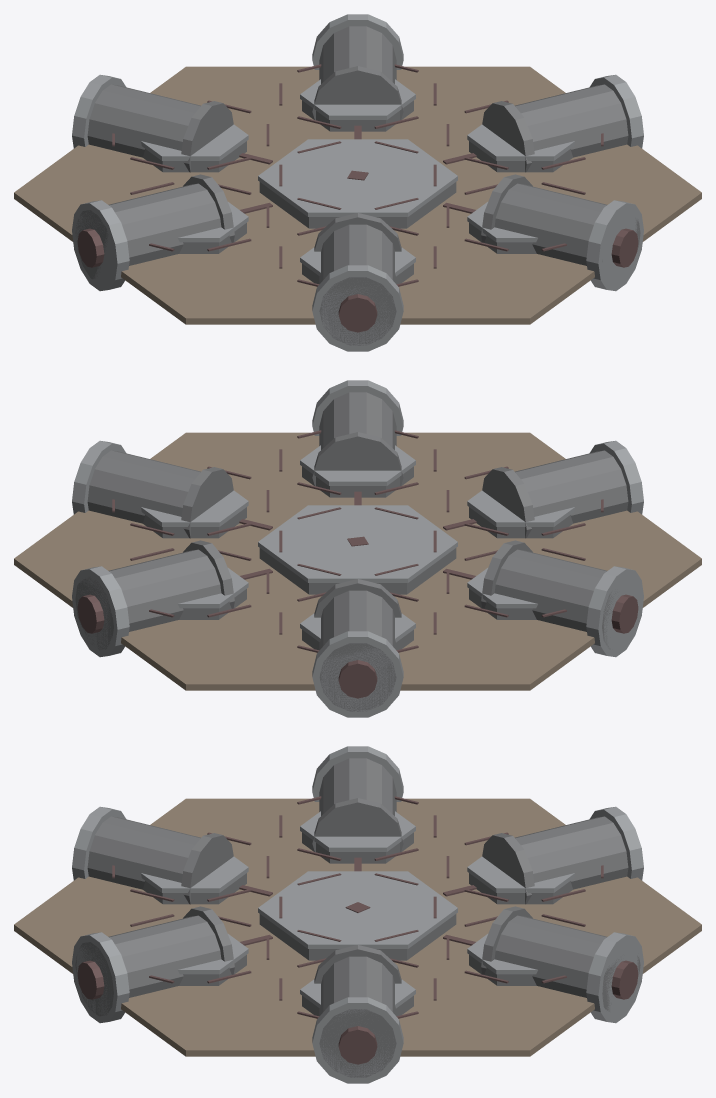
Rendered from resonance_trap_s3_100.glb.
3 views of the same model, one above another, from view 1: azimuth 30°, elevation 25°; view 2: azimuth 150°, elevation 25°; view 3: azimuth 270°, elevation 25° (orthographic).
Visible parts, largest first — view 1: RT_Channel_0; view 2: RT_Channel_0; view 3: RT_Channel_0.
Boxes of the visible parts, left/top/right/bottom form: RT_Channel_0: left=14, top=14, right=701, bottom=351; RT_Channel_0: left=14, top=380, right=701, bottom=717; RT_Channel_0: left=14, top=746, right=701, bottom=1083.
Size of the model in its own units: 1.78 by 0.26 by 1.96.
